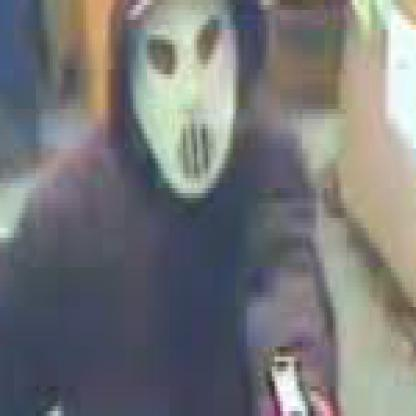gun: (255, 332, 355, 411)
